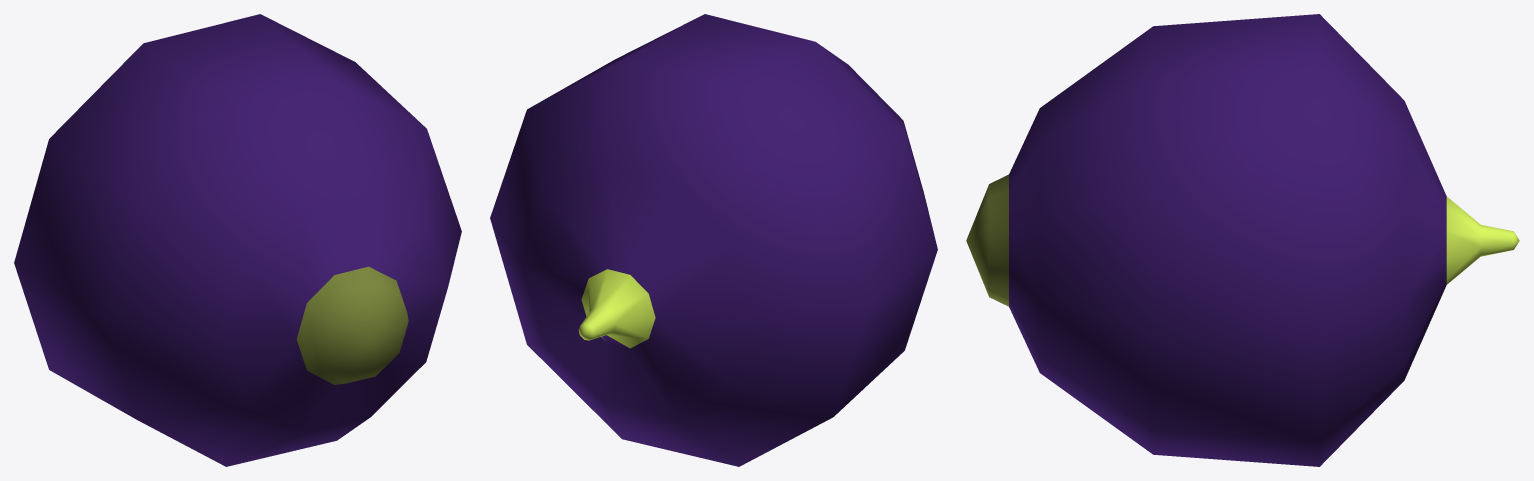
The model's file is Onion.fbx.
The picture shows the model from 3 angles, left to right: view 1: azimuth 30°, elevation 25°; view 2: azimuth 150°, elevation 25°; view 3: azimuth 270°, elevation 25°; orthographic projection. The views are drawn at different scales.
Visible parts, largest first — view 1: Onion; view 2: Onion; view 3: Onion.
Boxes of the visible parts, x1,y1,x2,y2 form: Onion: (14,14,461,466); Onion: (490,14,937,466); Onion: (966,14,1519,466).
Size of the model in its own units: 158 by 151 by 192.
